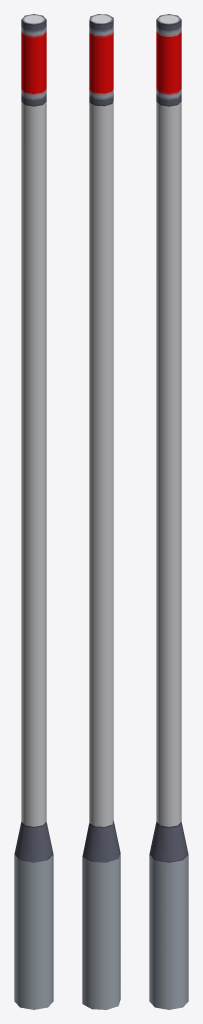
The model's file is Antena_01.FBX.
The picture shows the model from 3 angles, left to right: view 1: azimuth 90°, elevation 25°; view 2: azimuth 150°, elevation 25°; view 3: azimuth 270°, elevation 25°; orthographic projection.
Parts seen in each view (by area): view 1: Antena_01; view 2: Antena_01; view 3: Antena_01.
Boxes of the visible parts, x1=… form: Antena_01: x1=14, y1=14, x2=53, y2=1009; Antena_01: x1=82, y1=14, x2=120, y2=1009; Antena_01: x1=149, y1=14, x2=188, y2=1009.
Size of the model in its own units: 0.1093 by 3 by 0.1084.
